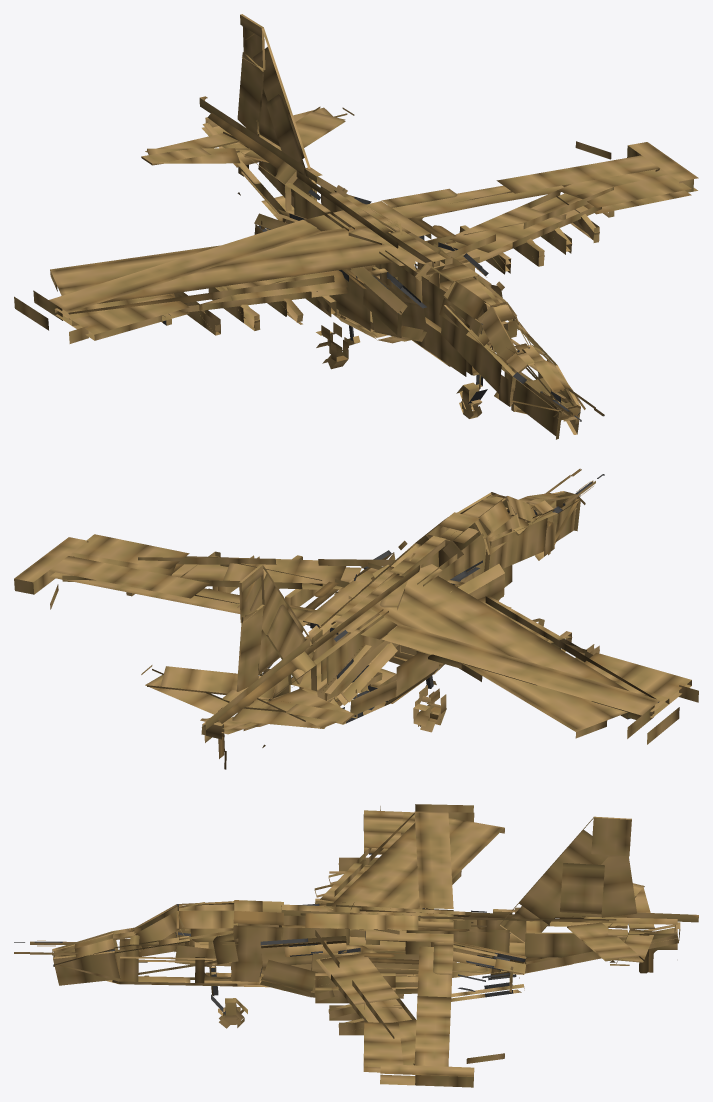
The picture shows the model from 3 angles, top to bottom: view 1: azimuth 30°, elevation 25°; view 2: azimuth 150°, elevation 25°; view 3: azimuth 270°, elevation 25°; orthographic projection. The views are drawn at different scales.
Visible parts, largest first — view 1: body, obj8, obj7, w3, w1, obj6; view 2: body, obj8, obj7, w3, obj5, obj6; view 3: body, obj8, obj7, w1, obj5.
Part boxes in pixels (box(x1,y1,x2,y2)): body: box(14, 14, 698, 439); obj8: box(439, 275, 519, 335); obj7: box(237, 52, 264, 136); w3: box(316, 322, 360, 369); w1: box(456, 374, 487, 418); obj6: box(145, 131, 239, 152); body: box(14, 468, 698, 769); obj8: box(457, 493, 519, 554); obj7: box(236, 607, 263, 691); w3: box(413, 651, 446, 732); obj5: box(145, 669, 229, 714); obj6: box(232, 707, 325, 728); body: box(14, 804, 698, 1087); obj8: box(178, 901, 238, 944); obj7: box(601, 855, 636, 917); w1: box(209, 960, 247, 1028); obj5: box(616, 929, 654, 963).
Bounding box in the file's own units: 17 × 6.13 × 18.11.
